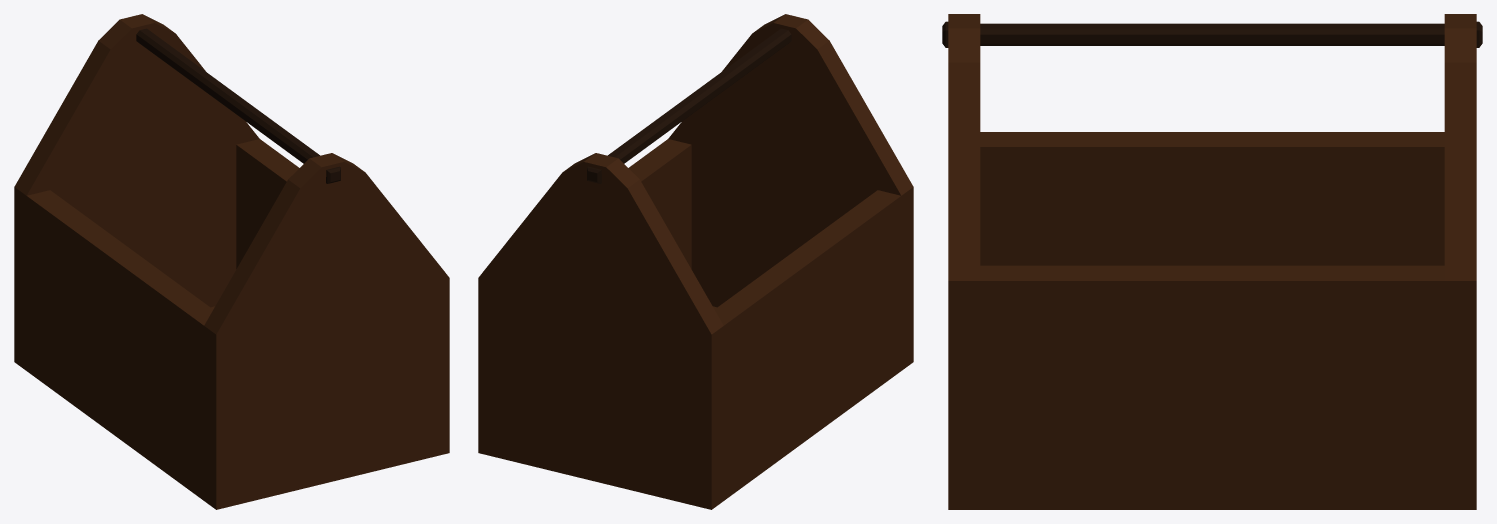
Rendered from ToolBox_FBX.fbx.
The picture shows the model from 3 angles, left to right: view 1: azimuth 30°, elevation 25°; view 2: azimuth 150°, elevation 25°; view 3: azimuth 270°, elevation 25°; orthographic projection. The views are drawn at different scales.
Visible parts, largest first — view 1: Tool_Box/Coal_Holder; view 2: Tool_Box/Coal_Holder; view 3: Tool_Box/Coal_Holder.
Part boxes in pixels (left/top/right/bottom): Tool_Box/Coal_Holder: left=14, top=14, right=449, bottom=509; Tool_Box/Coal_Holder: left=478, top=14, right=913, bottom=509; Tool_Box/Coal_Holder: left=942, top=14, right=1482, bottom=509.
Size of the model in its own units: 39.28 by 51 by 60.25.
